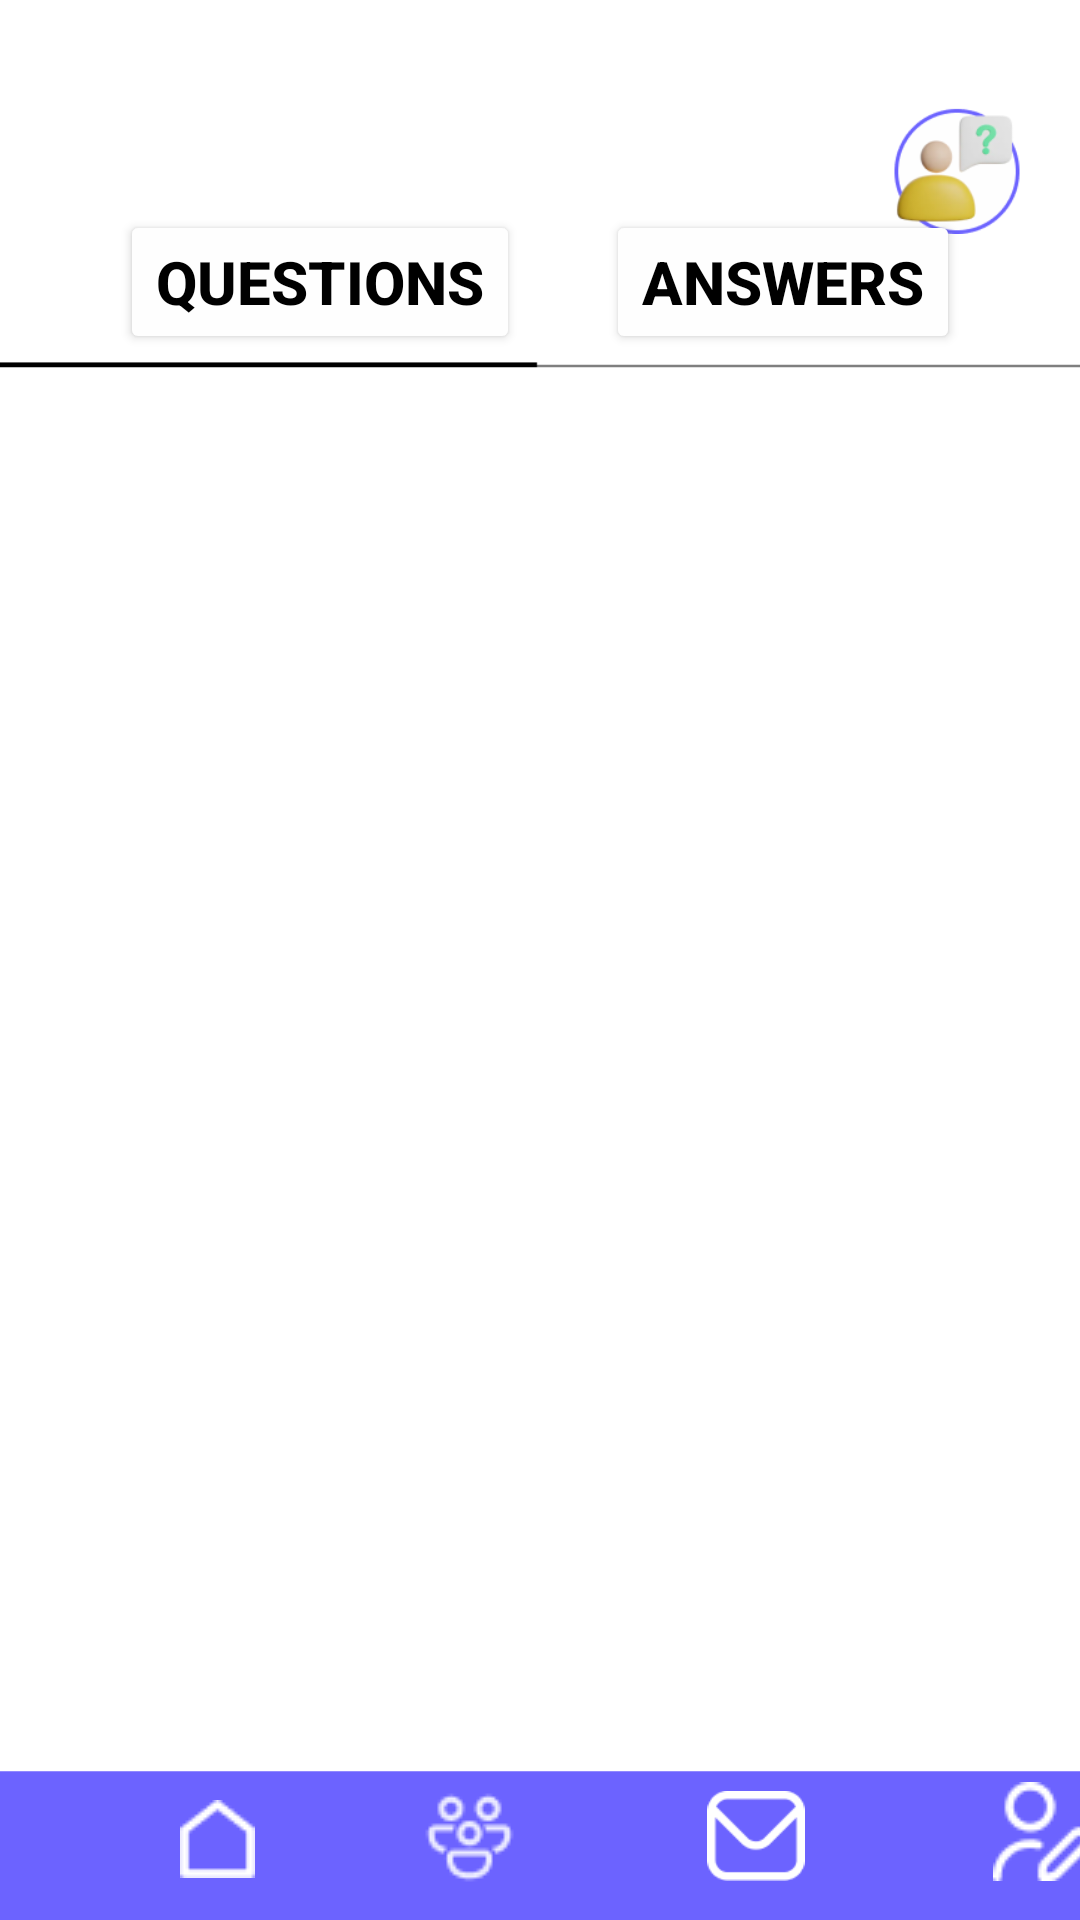

Where icons sit on this 1080×1920 app screen, as box(x1, y1, x2, y2):
commu: box(427, 1795, 512, 1880)
home: box(180, 1800, 255, 1878)
me request: box(894, 109, 1020, 234)
